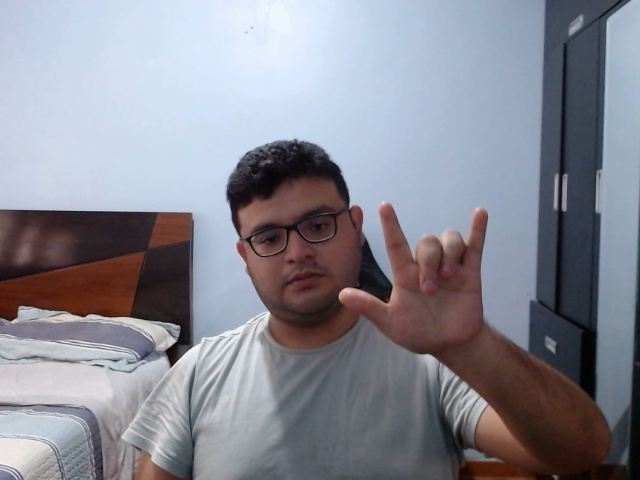I love you: (337, 193, 490, 364)
